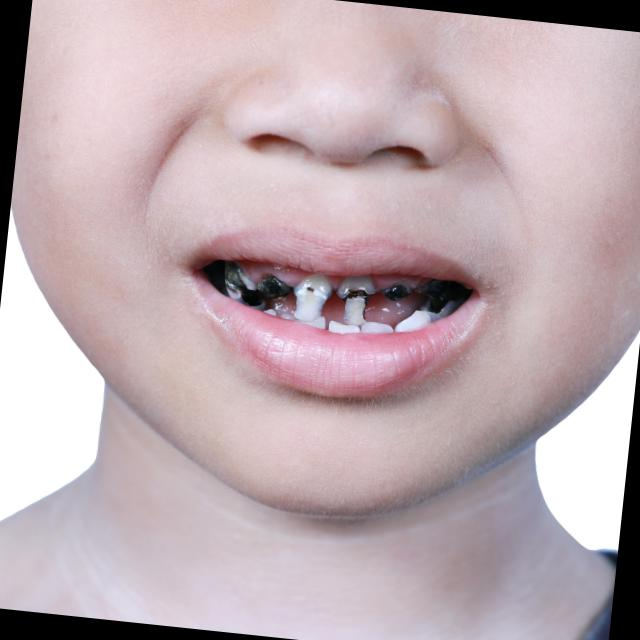Caries: (341, 289, 375, 320), (257, 272, 293, 300), (225, 260, 247, 297), (414, 278, 451, 300), (379, 279, 412, 301), (307, 288, 313, 292)
Cavity: (305, 287, 314, 294)
Tooth: (336, 274, 375, 325), (293, 273, 333, 322), (224, 260, 257, 299), (263, 308, 276, 316)
